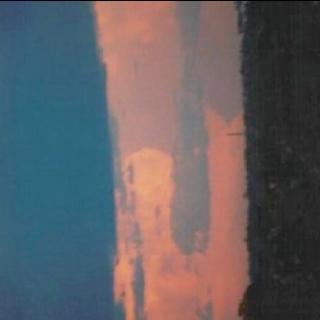Stratocumulus: (0, 0, 246, 320)
